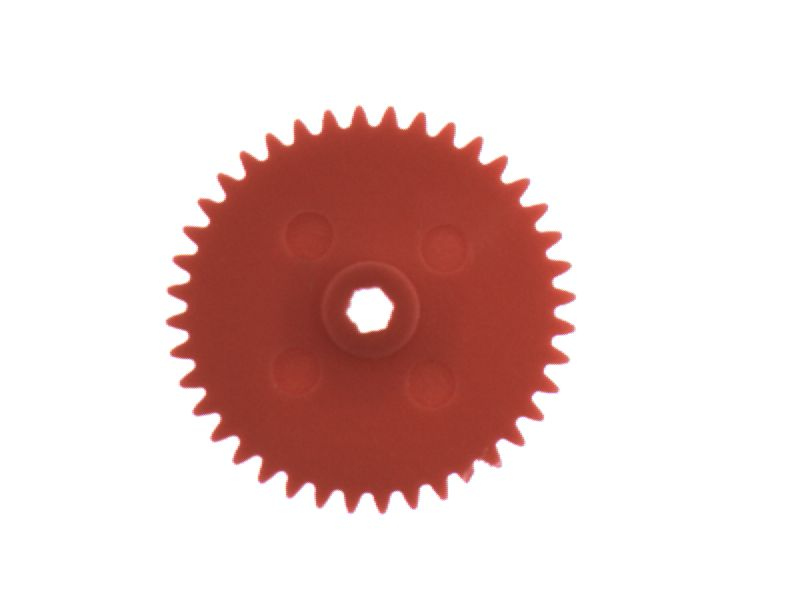defect_break: (445, 450, 495, 501)
